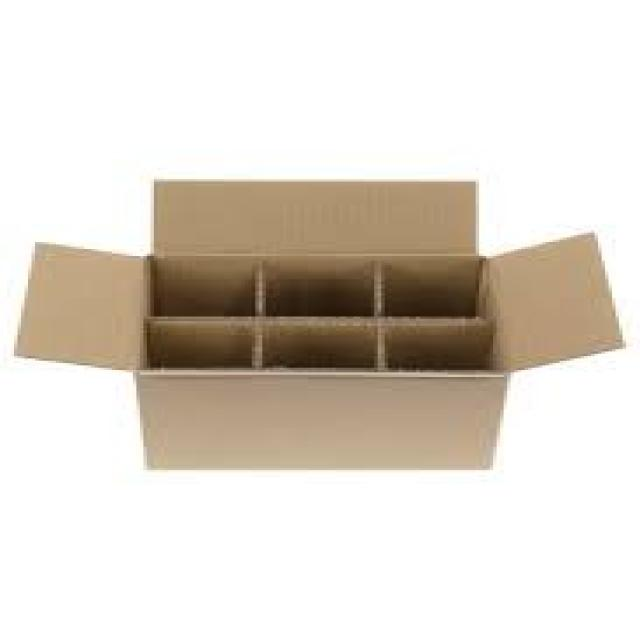cardboard: (11, 175, 619, 468)
